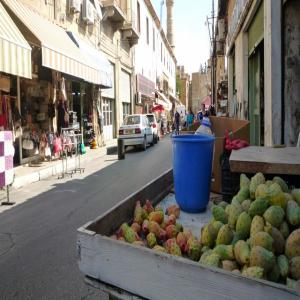Vehicle-registration-plate: (126, 129, 133, 136)
